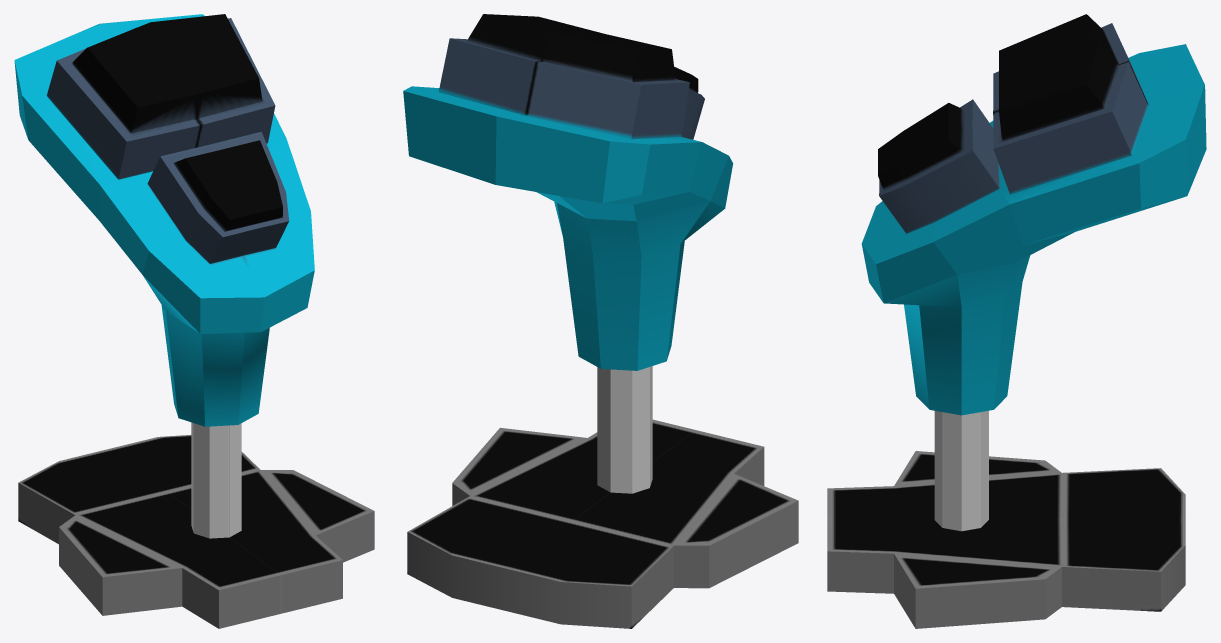
File: joystick_01.fbx
3 renders of one model, left to right at view 1: azimuth 30°, elevation 25°; view 2: azimuth 150°, elevation 25°; view 3: azimuth 270°, elevation 25°, orthographic. The views are drawn at different scales.
Parts seen in each view (by area): view 1: joystick_01, joystick_01_base; view 2: joystick_01, joystick_01_base; view 3: joystick_01, joystick_01_base.
Boxes of the visible parts, x1,y1,x2,y2 form: joystick_01: [14, 14, 314, 538]; joystick_01_base: [18, 435, 374, 628]; joystick_01: [403, 14, 733, 493]; joystick_01_base: [407, 419, 798, 628]; joystick_01: [861, 14, 1206, 531]; joystick_01_base: [827, 451, 1185, 628].
Size of the model in its own units: 5 by 8.72 by 5.81.
